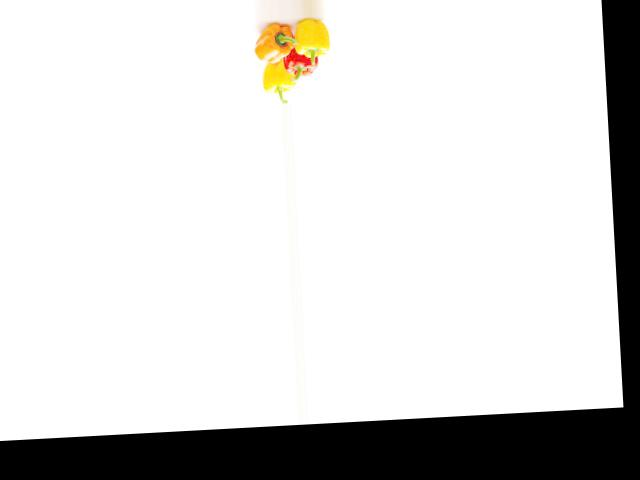bell_pepper: (283, 17, 332, 65)
